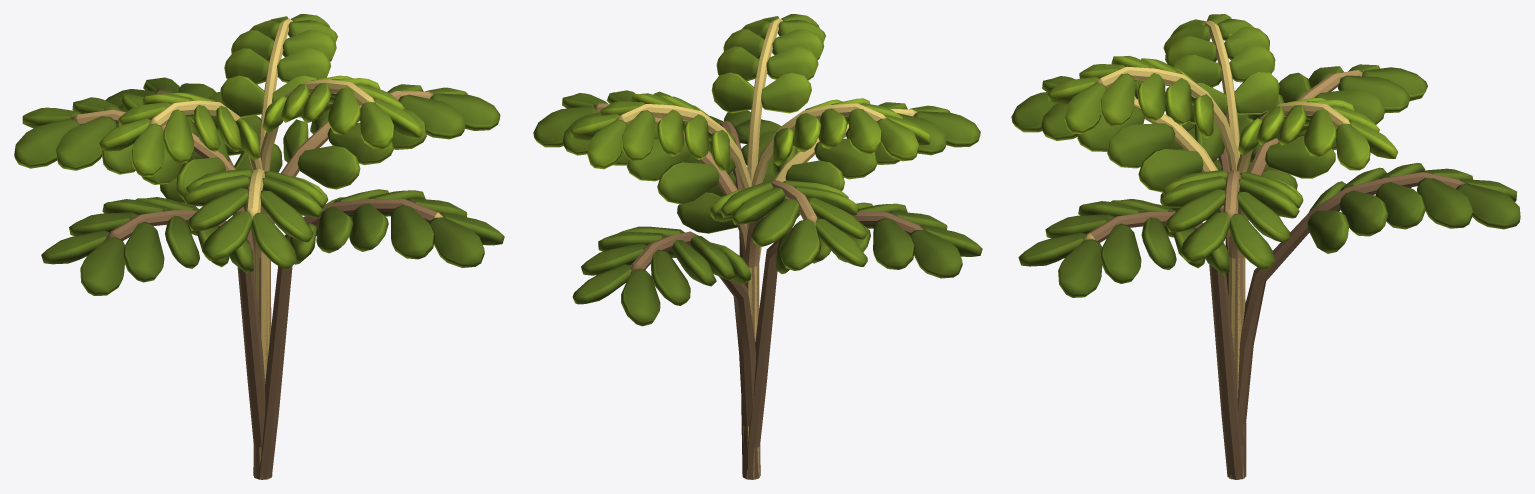
The model's file is fern_tree_big_LOD_group.fbx.
3 renders of one model, left to right at view 1: azimuth 30°, elevation 25°; view 2: azimuth 150°, elevation 25°; view 3: azimuth 270°, elevation 25°, orthographic. The views are drawn at different scales.
Parts seen in each view (by area): view 1: fern_tree_big_LOD0; view 2: fern_tree_big_LOD0; view 3: fern_tree_big_LOD0.
Boxes of the visible parts, x1=… form: fern_tree_big_LOD0: x1=14, y1=14, x2=504, y2=479; fern_tree_big_LOD0: x1=533, y1=14, x2=982, y2=479; fern_tree_big_LOD0: x1=1011, y1=14, x2=1520, y2=479.
Size of what is drawn, in the model's own units: 339 by 319 by 346.
Materials: 1 (1 with a texture image).
